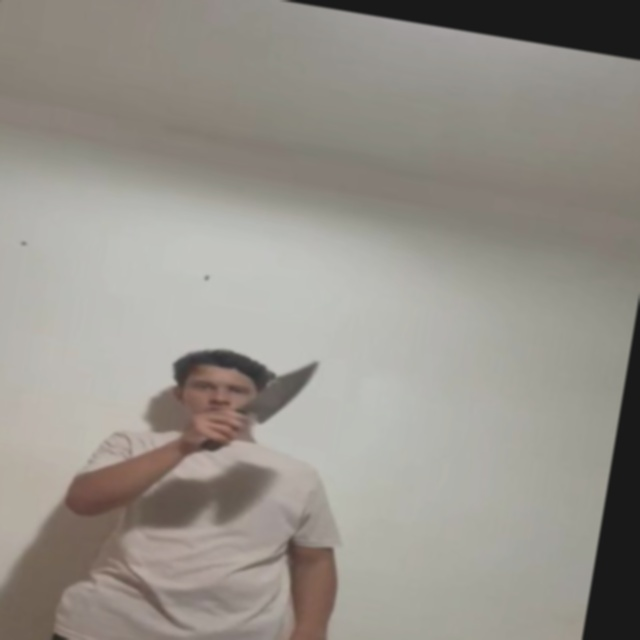Sharp-Object: (244, 347, 328, 426)
